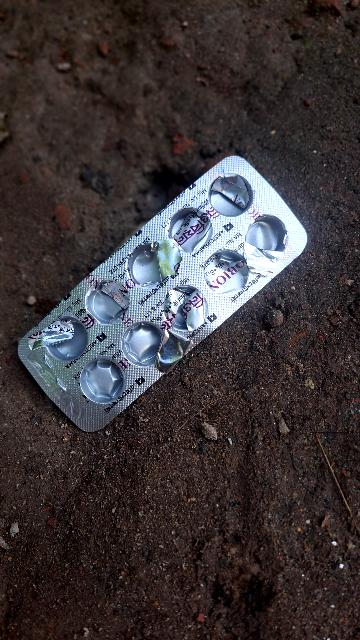medicine: (17, 154, 309, 432)
